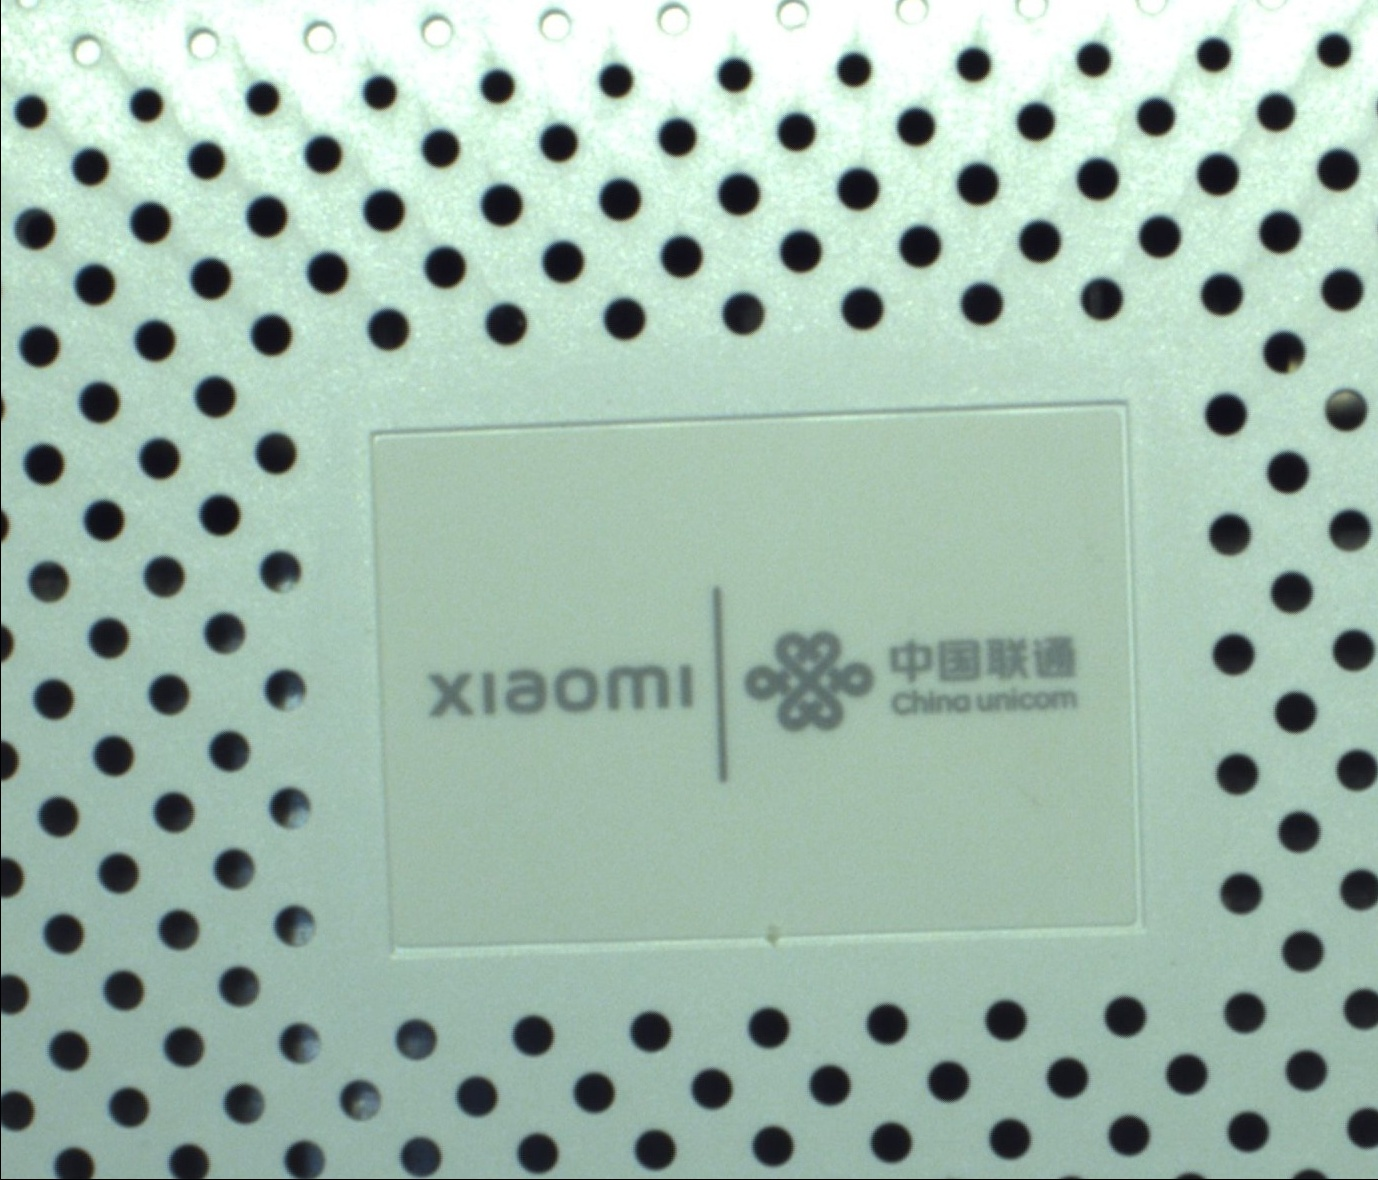MAC_NewUnicom: (424, 582, 1101, 776)
